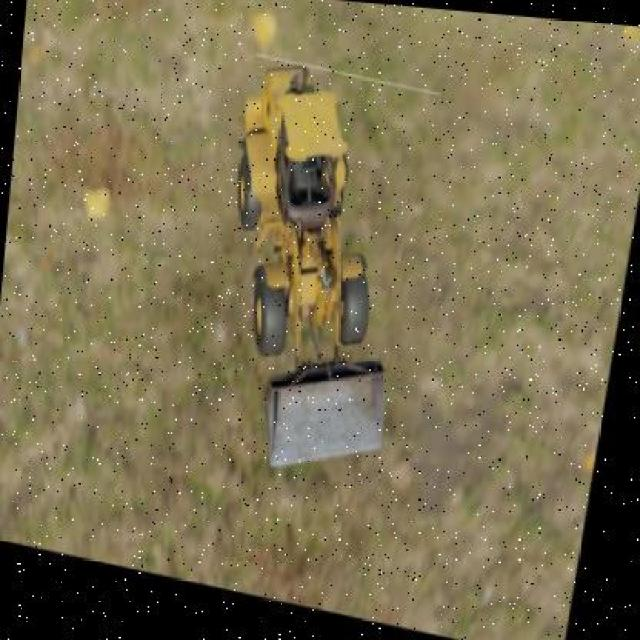buldozerpayloadergrader: (208, 65, 410, 480)
